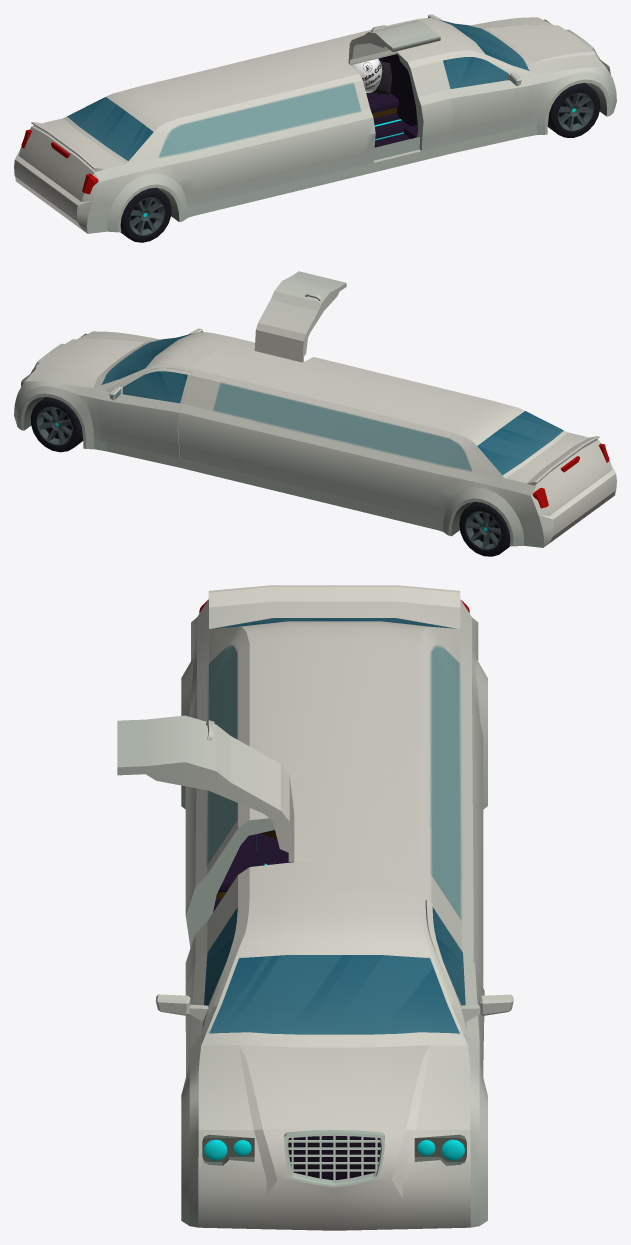
Rendered from limo.glb.
The picture shows the model from 3 angles, top to bottom: view 1: azimuth 30°, elevation 25°; view 2: azimuth 150°, elevation 25°; view 3: azimuth 270°, elevation 25°; orthographic projection. The views are drawn at different scales.
Parts seen in each view (by area): view 1: LimoBody, WingDoor, Sphere; view 2: LimoBody, WingDoor; view 3: LimoBody, WingDoor.
Boxes of the visible parts, left/top/right/bottom form: LimoBody: left=14, top=14, right=616, bottom=242; WingDoor: left=348, top=20, right=440, bottom=63; Sphere: left=351, top=58, right=382, bottom=92; LimoBody: left=14, top=328, right=616, bottom=556; WingDoor: left=254, top=271, right=346, bottom=362; LimoBody: left=155, top=585, right=513, bottom=1230; WingDoor: left=117, top=715, right=294, bottom=861.
Size of what is drawn, in the model's own units: 12.09 by 3.28 by 3.81.
2 materials, 2 textured.
